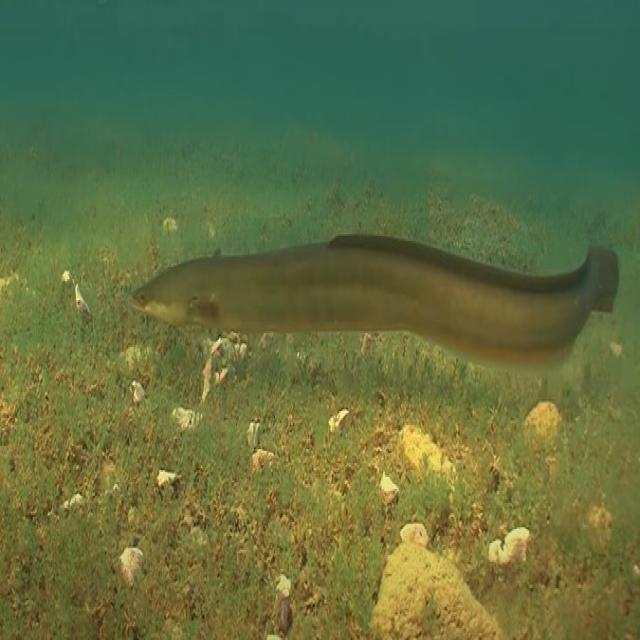Freshwater-Eel: (106, 161, 640, 404)
